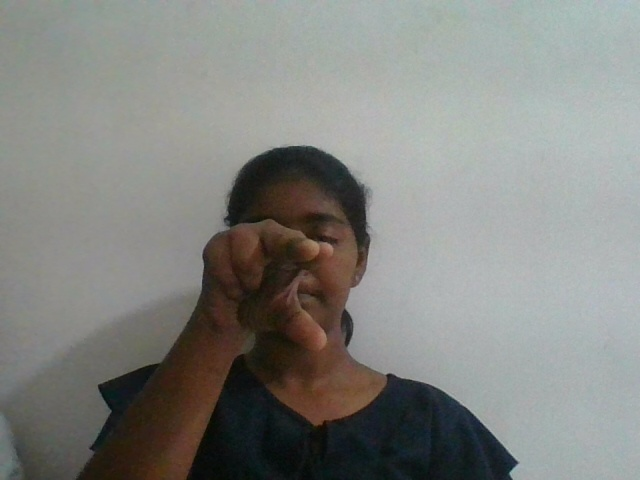No: (187, 220, 358, 355)
